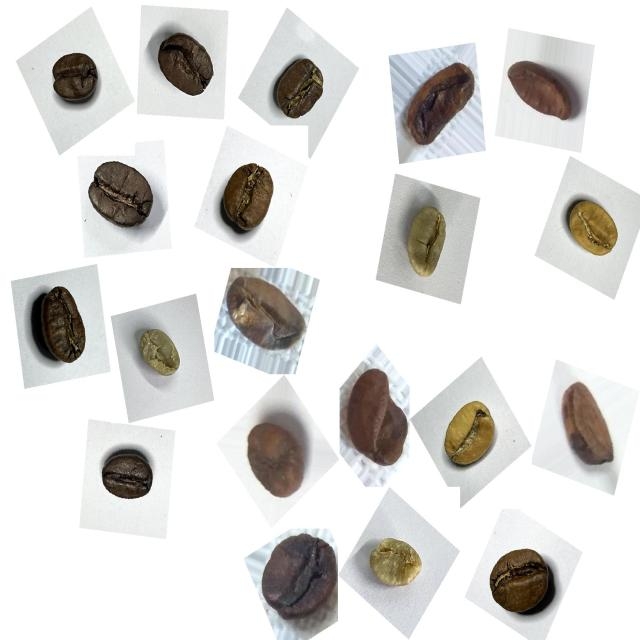bad: (330, 359, 416, 480), (251, 521, 341, 636), (395, 48, 480, 158), (222, 268, 312, 366), (235, 403, 315, 505), (552, 370, 626, 477), (504, 47, 584, 133)
dark: (82, 156, 166, 247), (480, 536, 560, 629), (148, 23, 222, 112), (264, 47, 333, 132), (93, 441, 165, 520), (42, 40, 107, 116)
green: (394, 197, 462, 293), (360, 527, 431, 601), (129, 320, 190, 389)
light: (438, 392, 508, 483), (556, 187, 628, 268)
medium: (23, 276, 98, 378), (211, 154, 286, 244)
